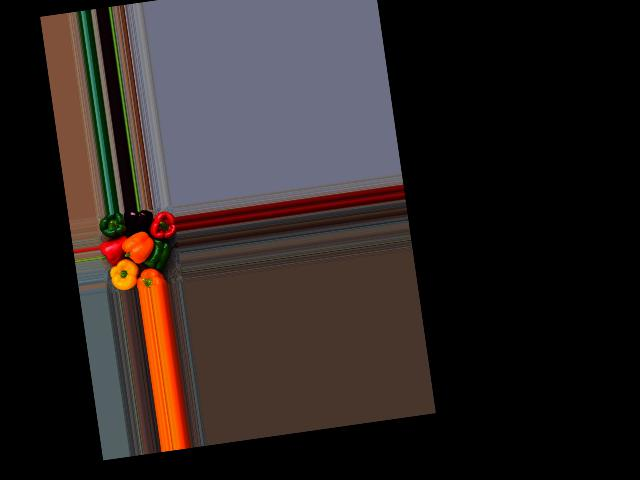bell_pepper: (134, 258, 174, 288)
